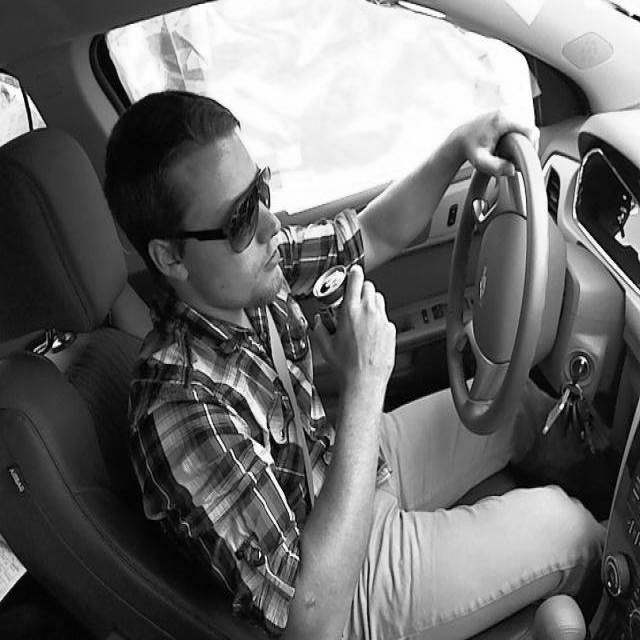Drinking: (96, 89, 406, 423)
